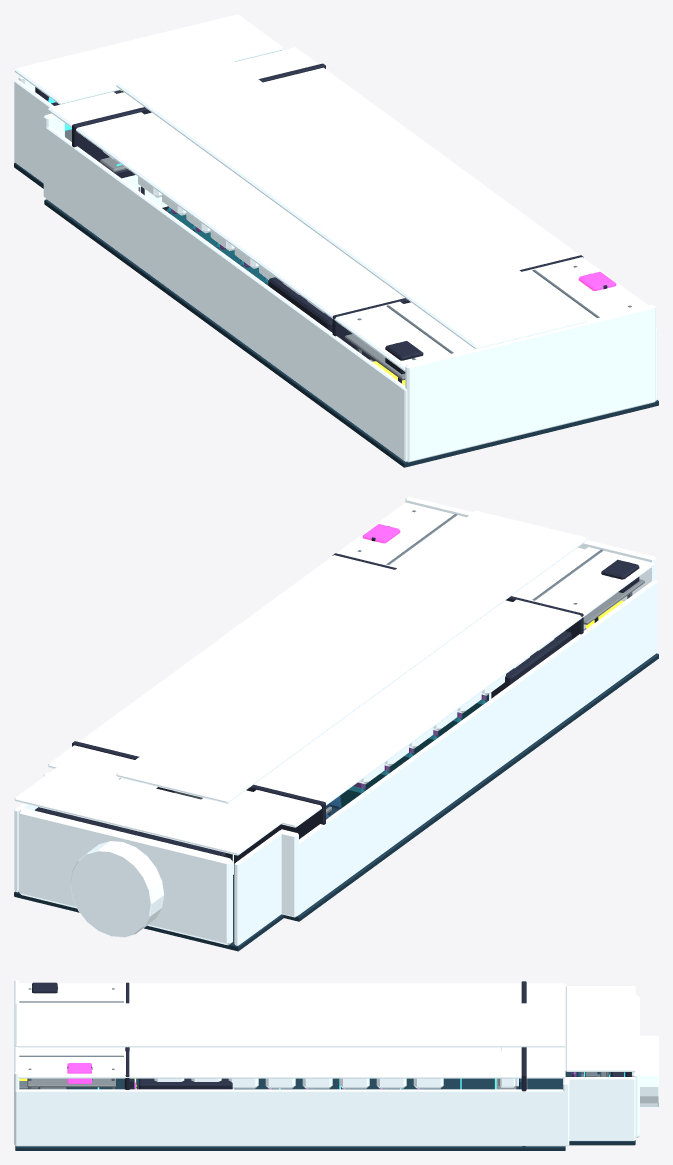
Rendered from cabin-mayhem-scenario.glb.
3 renders of one model, top to bottom at view 1: azimuth 30°, elevation 25°; view 2: azimuth 150°, elevation 25°; view 3: azimuth 270°, elevation 25°, orthographic. The views are drawn at different scales.
Visible parts, largest first — view 1: CM_WARM_SHELL, CM_CARPET, CM_GALLEY_DARK, CM_SEAT_METAL, CM_SEAT_TEAL; view 2: CM_WARM_SHELL, CM_GALLEY_DARK, CM_CARPET, CM_SEAT_TEAL; view 3: CM_WARM_SHELL, CM_CARPET, CM_GALLEY_DARK, CM_SEAT_METAL, CM_METAL_TRIM, CM_NEON_PINK.
Part boxes in pixels (x1,y1,x2,y2): CM_WARM_SHELL: (14,14,657,462); CM_CARPET: (14,162,658,467); CM_GALLEY_DARK: (35,63,607,383); CM_SEAT_METAL: (100,157,405,380); CM_SEAT_TEAL: (166,207,268,285); CM_WARM_SHELL: (14,496,657,945); CM_GALLEY_DARK: (35,526,639,875); CM_CARPET: (14,653,658,951); CM_SEAT_TEAL: (340,694,488,808); CM_WARM_SHELL: (14,980,658,1146); CM_CARPET: (15,1071,635,1150); CM_GALLEY_DARK: (32,981,631,1146); CM_SEAT_METAL: (27,1072,608,1089); CM_METAL_TRIM: (19,988,609,1089); CM_NEON_PINK: (67,1063,135,1089).
Size of the model in its own units: 8.4 by 3.32 by 24.03.
